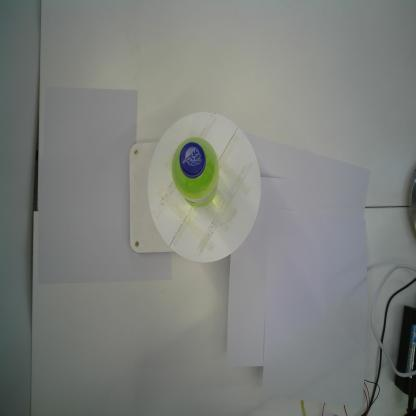Drink: (168, 134, 220, 209)
